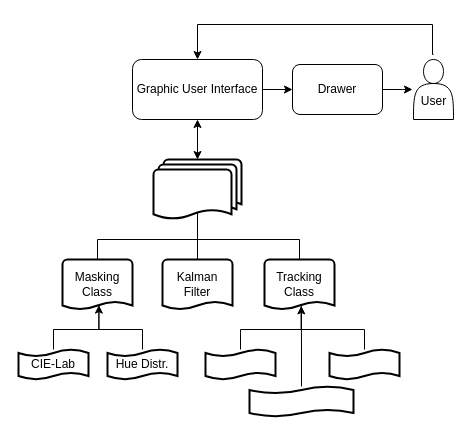
Some shapes in this 471 by 435 pixel diagram are drawn without their labels. The shapes that lost their labels are listed below. From the top down, each one's centre as x and y in pixels, then its label:
the point at 197,189: Tracker
the point at 240,364: Shi-Tomasi
the point at 364,364: Optical Flow
the point at 301,401: Correlation Filter
